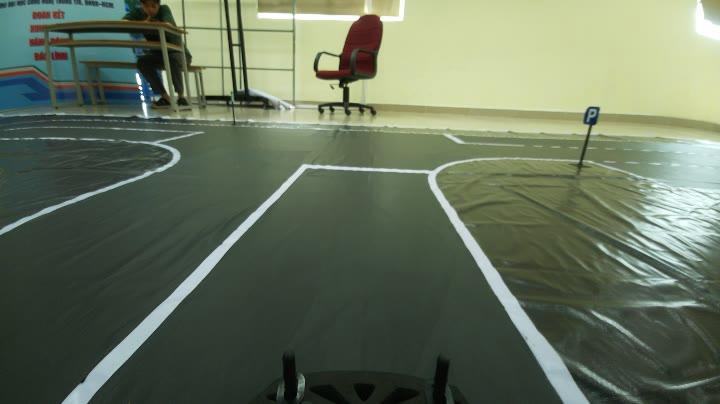parking: (584, 104, 603, 128)
